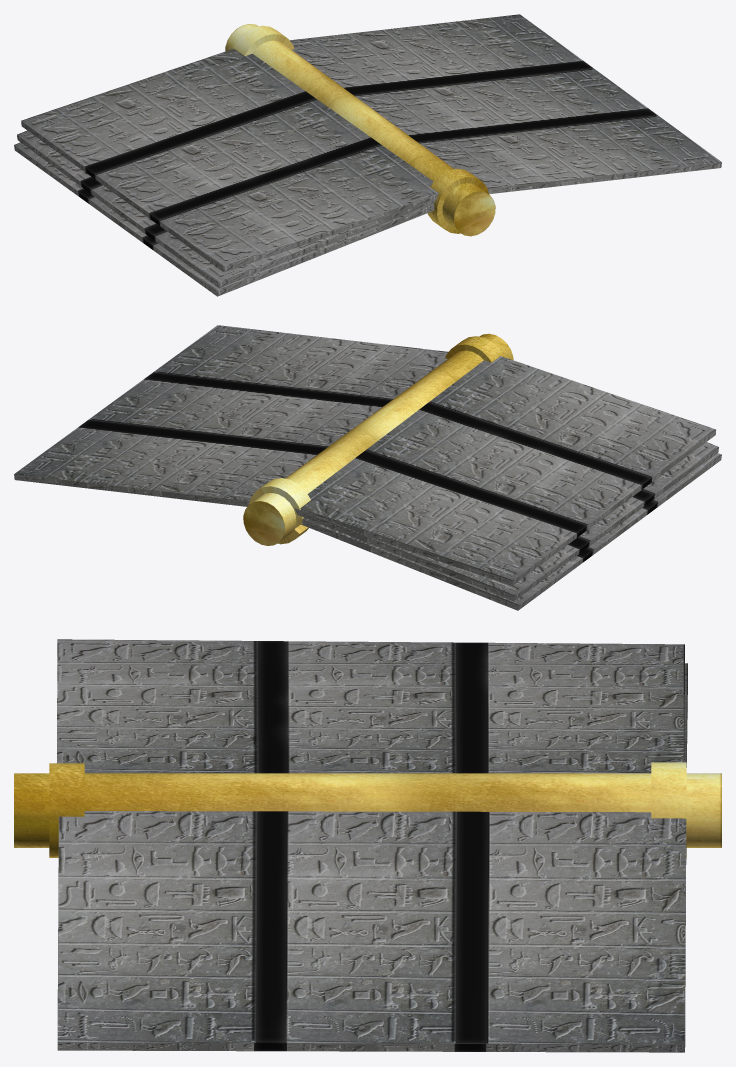
The model's file is libro.fbx.
3 views of the same model, one above another, from view 1: azimuth 30°, elevation 25°; view 2: azimuth 150°, elevation 25°; view 3: azimuth 270°, elevation 25° (orthographic). The views are drawn at different scales.
Parts seen in each view (by area): view 1: pagina7, pagina1, visagra, pagina6, pagina9; view 2: pagina7, pagina1, visagra, pagina6, pagina9; view 3: pagina1, pagina7, visagra.
Part boxes in pixels (box(x1,y1,x2,y2)): pagina7: box(21, 48, 439, 271); pagina1: box(290, 14, 721, 194); visagra: box(225, 24, 495, 236); pagina6: box(17, 130, 435, 287); pagina9: box(14, 142, 434, 296); pagina7: box(300, 356, 716, 585); pagina1: box(14, 325, 448, 506); visagra: box(243, 333, 513, 545); pagina6: box(294, 442, 718, 601); pagina9: box(299, 453, 721, 610); pagina1: box(57, 811, 686, 1052); pagina7: box(57, 639, 684, 773); visagra: box(14, 762, 721, 858).
Bounding box in the file's own units: 34.25 × 4.18 × 26.84.
Materials: 2 (2 with a texture image).
